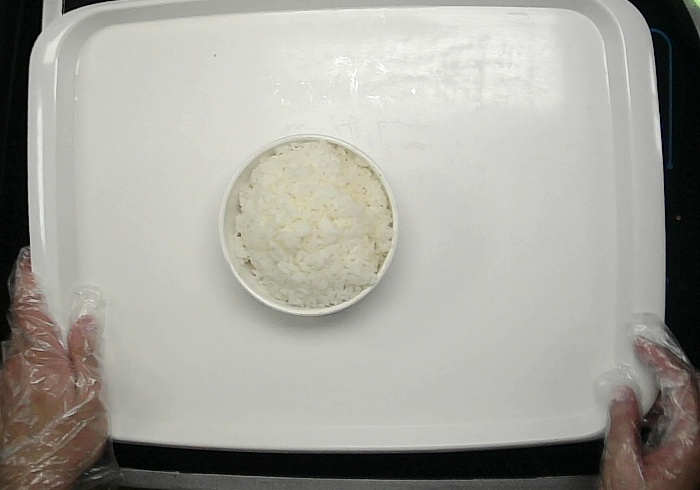HZYJPL-Fan_Wan: (218, 134, 400, 316)
